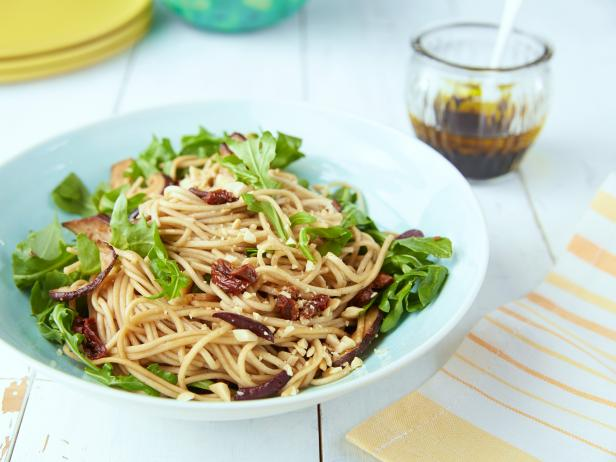Soba: (52, 132, 431, 399)
